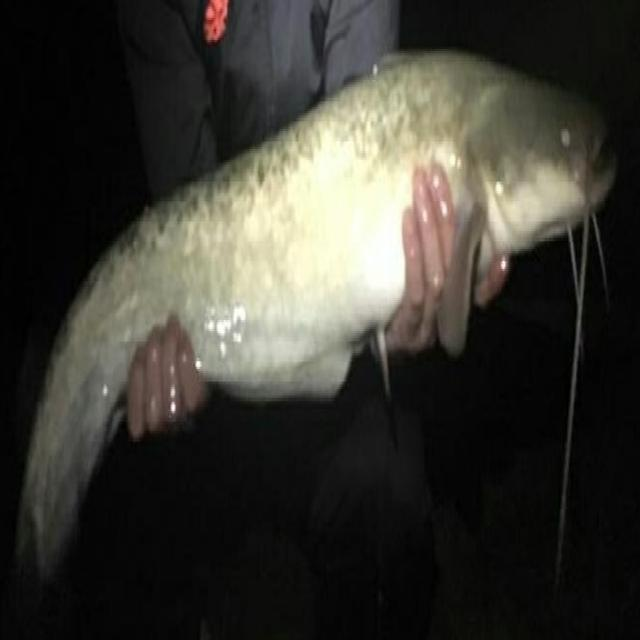Catfish: (21, 51, 623, 602)
